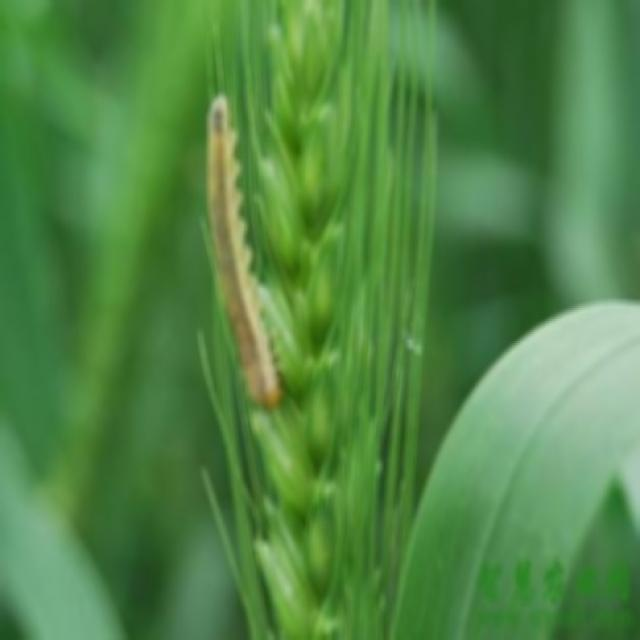army worm: (204, 89, 289, 404)
